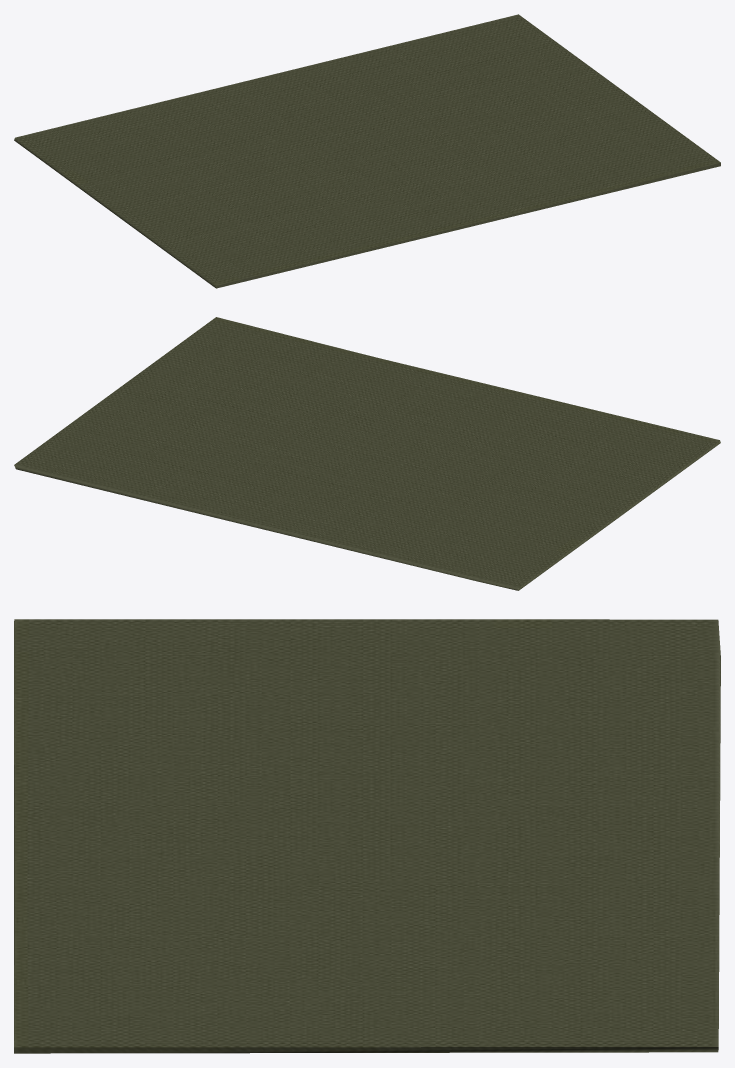
Rendered from 18 - MORUM Rug flatwoven, inoutdoor - dark green 160x230 cm.glb.
3 renders of one model, top to bottom at view 1: azimuth 30°, elevation 25°; view 2: azimuth 150°, elevation 25°; view 3: azimuth 270°, elevation 25°, orthographic. The views are drawn at different scales.
Parts seen in each view (by area): view 1: ASY_ART_80624179_S01_NV01; view 2: ASY_ART_80624179_S01_NV01; view 3: ASY_ART_80624179_S01_NV01.
Part boxes in pixels (x1,y1,x2,y2): ASY_ART_80624179_S01_NV01: (14,14,720,288); ASY_ART_80624179_S01_NV01: (14,317,720,590); ASY_ART_80624179_S01_NV01: (14,619,720,1053).
Bounding box in the file's own units: 2.3 × 0.0172 × 1.6.
1 material, 1 textured.
